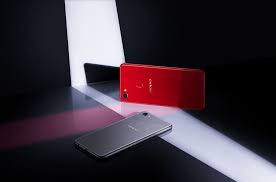oppo: (76, 108, 174, 160), (117, 60, 209, 110)
